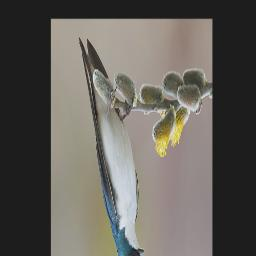Swallow: (78, 33, 145, 256)
